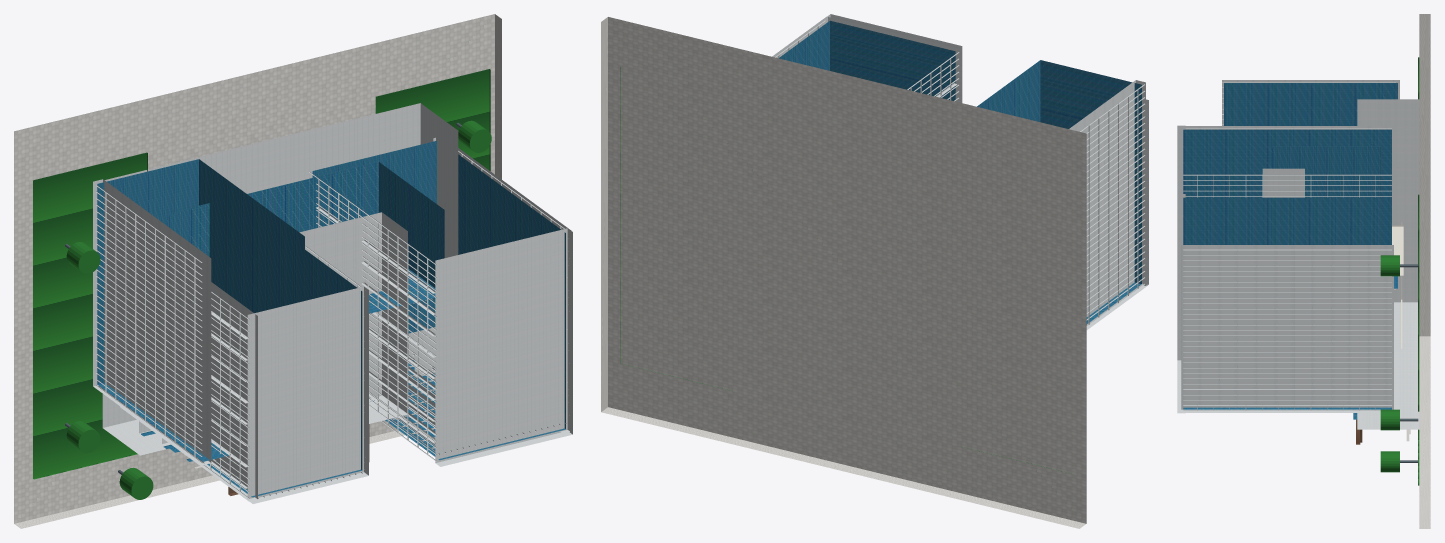
File: Shanghai_HaijuYingcai_EntrepreneurshipCity.glb
The picture shows the model from 3 angles, left to right: view 1: azimuth 30°, elevation 25°; view 2: azimuth 150°, elevation 25°; view 3: azimuth 270°, elevation 25°; orthographic projection. The views are drawn at different scales.
Parts seen in each view (by area): view 1: Site_Plinth, Roof_R, Roof_L, Rear_Left_Core, Lawn_Left, Rear_Left_Wing, Podium, Central_Back_Block, Tower_R, Central_Bridge, Core_L, Lawn_Right (+6 smaller); view 2: Site_Plinth, Rear_Left_Core, Rear_Left_Wing, Tower_R, Roof_R; view 3: Core_R, Tower_R, Podium, Tower_L, Rear_Left_Wing, Site_Plinth, Central_Back_Block, Central_Bridge, Roof_R, Core_L, Rear_Left_Core, Lawn_Right (+20 smaller).
Boxes of the visible parts, x1,y1,x2,y2 form: Site_Plinth: (14,14,501,528); Roof_R: (435,228,572,466); Roof_L: (247,286,368,503); Rear_Left_Core: (93,179,211,465); Lawn_Left: (33,152,147,479); Rear_Left_Wing: (97,159,304,461); Podium: (102,103,458,455); Central_Back_Block: (191,162,444,313); Tower_R: (312,141,565,459); Central_Bridge: (299,212,407,423); Core_L: (119,282,257,501); Lawn_Right: (375,69,490,170); Site_Plinth: (601,17,1086,528); Rear_Left_Core: (1069,80,1145,328); Rear_Left_Wing: (977,60,1141,323); Tower_R: (779,20,955,101); Roof_R: (825,14,962,102); Core_R: (1181,245,1393,412); Tower_R: (1183,197,1391,409); Podium: (1357,99,1419,429); Tower_L: (1183,129,1391,197); Rear_Left_Wing: (1224,83,1397,288); Site_Plinth: (1419,14,1430,528); Central_Back_Block: (1272,146,1380,197); Central_Bridge: (1262,168,1304,197); Roof_R: (1177,194,1185,413); Core_L: (1185,126,1393,225); Rear_Left_Core: (1222,80,1399,125); Lawn_Right: (1418,194,1419,485).
Size of the model in its own units: 118 by 92 by 65.6.
8 materials, 5 textured.
